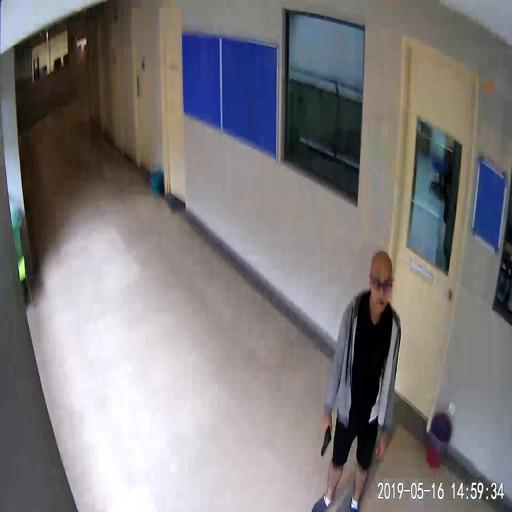pistol: (320, 423, 332, 456)
